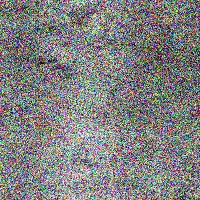rolled-in_scale: (13, 1, 119, 82), (65, 142, 121, 171)
